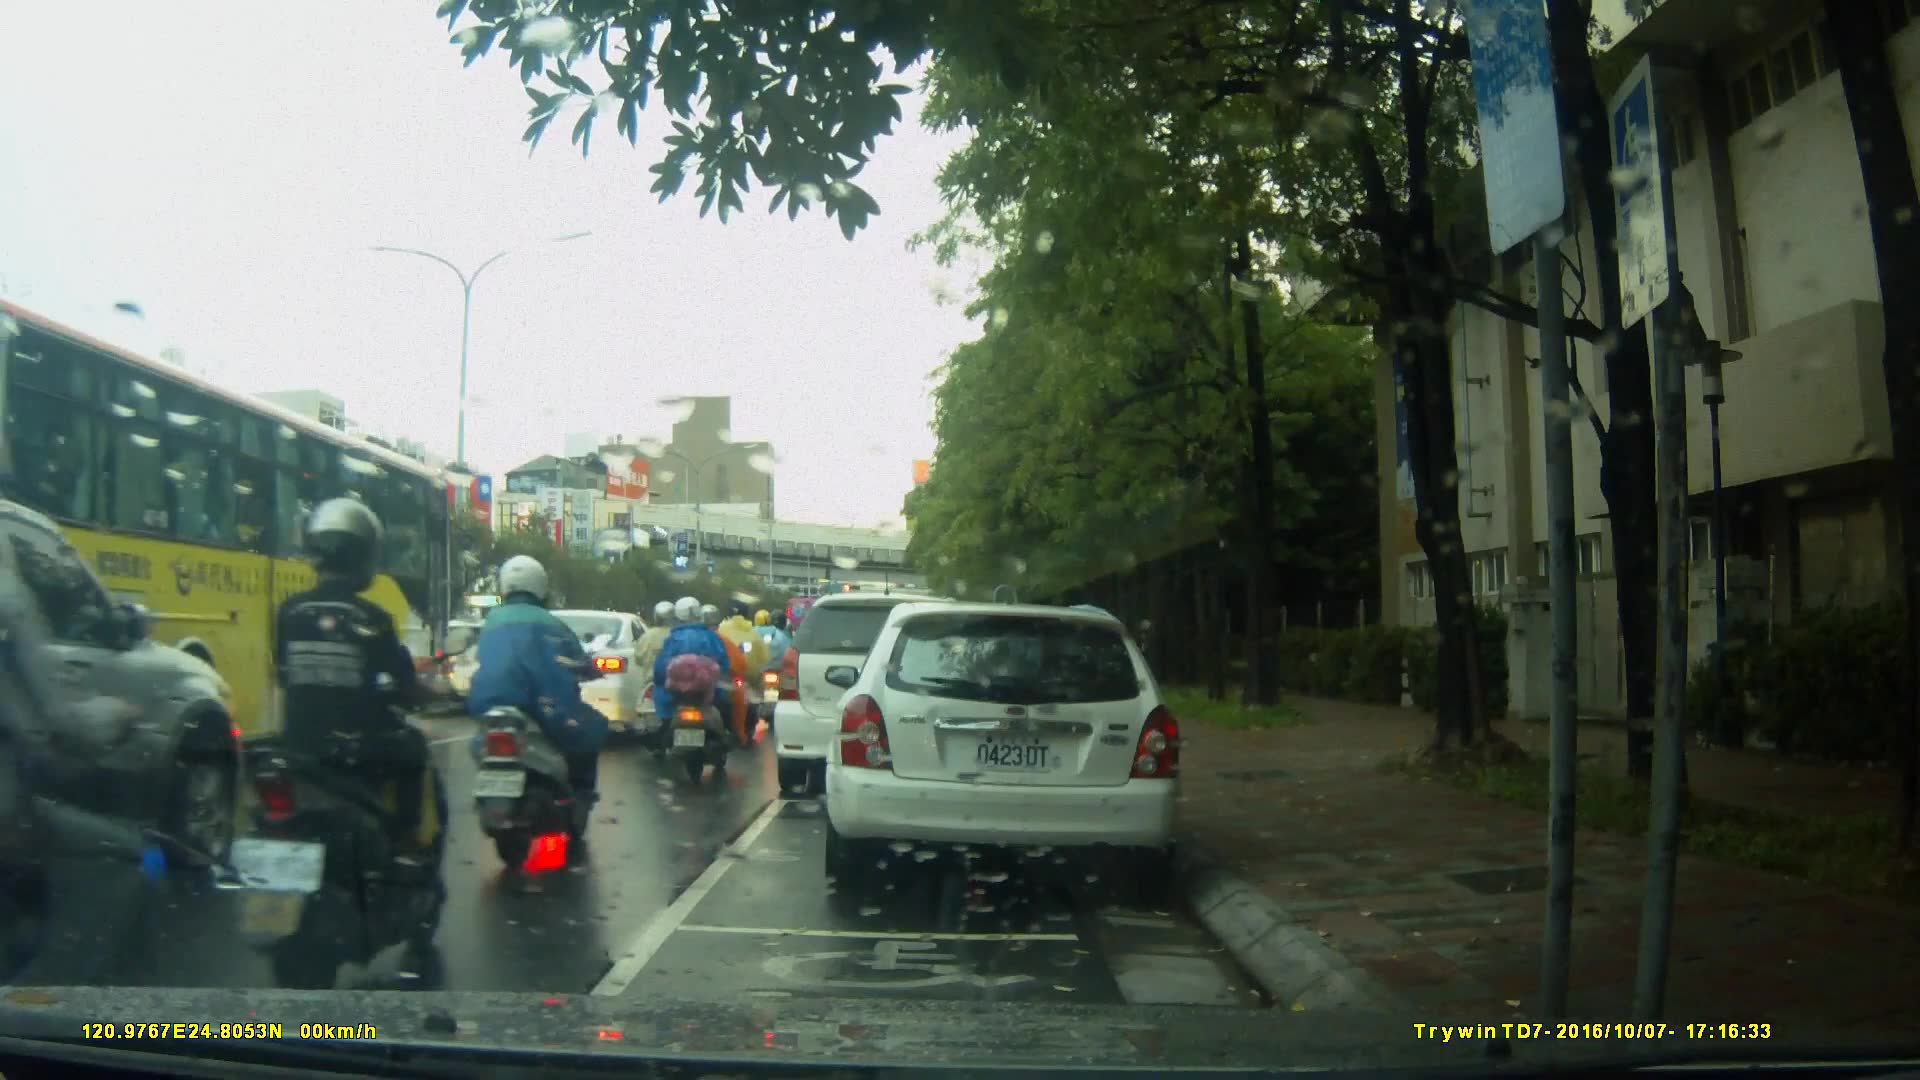rider: (224, 495, 453, 980), (471, 544, 602, 876), (651, 595, 753, 786), (635, 594, 720, 766), (711, 594, 770, 743), (743, 607, 791, 725)
vehicle: (1, 298, 464, 778), (1, 494, 250, 942), (835, 594, 1194, 898), (776, 590, 1026, 784), (493, 608, 686, 741)
